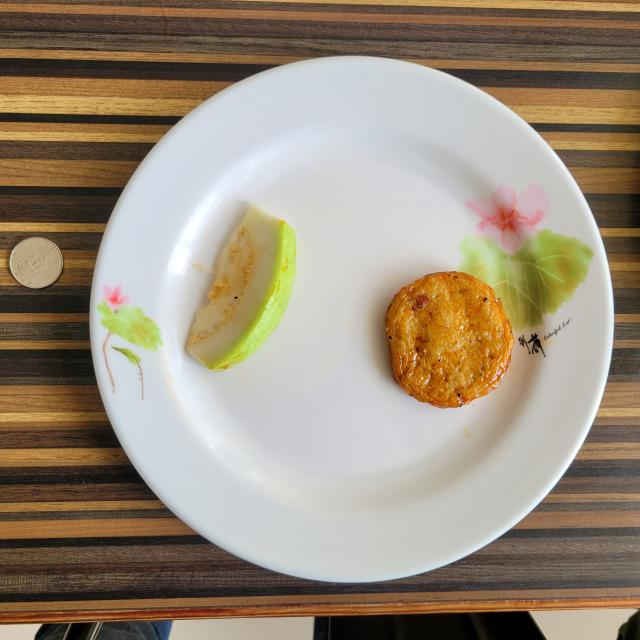coin: (9, 236, 64, 289)
fish cake: (386, 271, 514, 408)
guava -sliced-: (186, 206, 296, 371)
